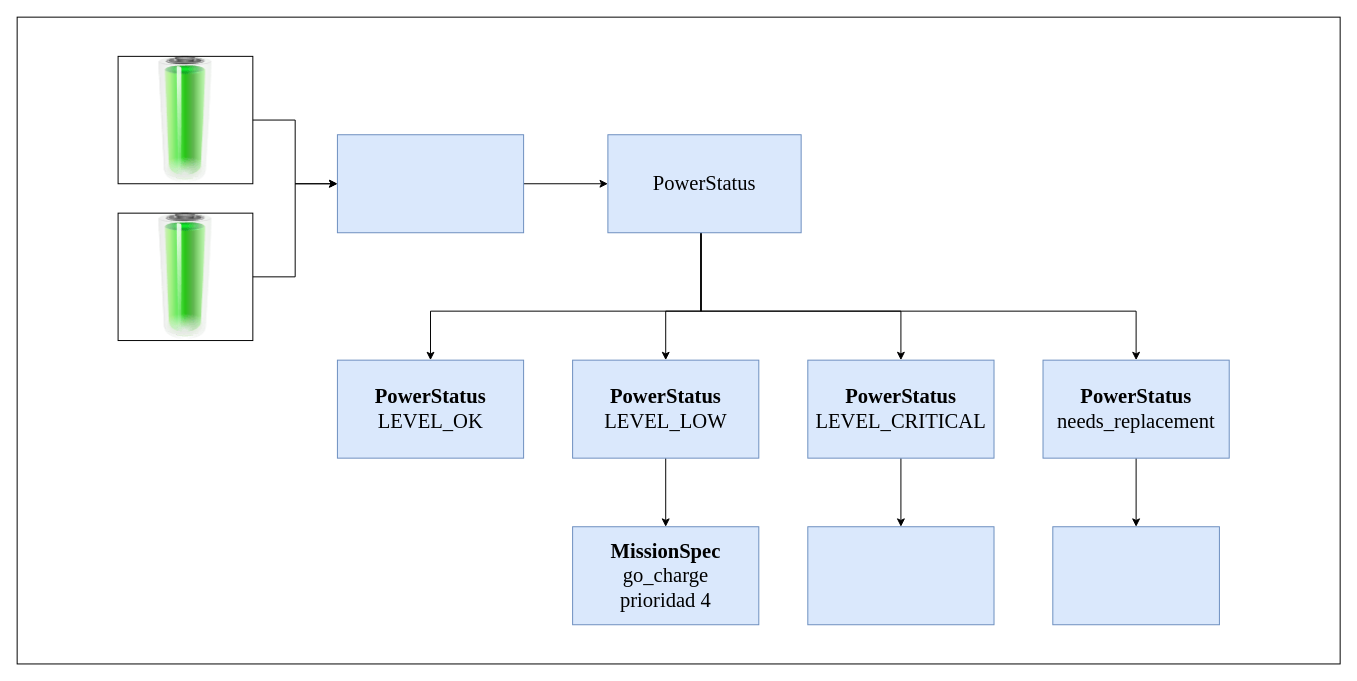
Some shapes in this 1357 by 681 pixel diagram are drawn without their labels. Each missing label, with the box of its shape:
Alert (INFO): (1052, 526, 1219, 625)
MissionSpec go_charge prioridad 1: (807, 526, 994, 625)
power_manager BOOTING: (336, 134, 524, 233)
